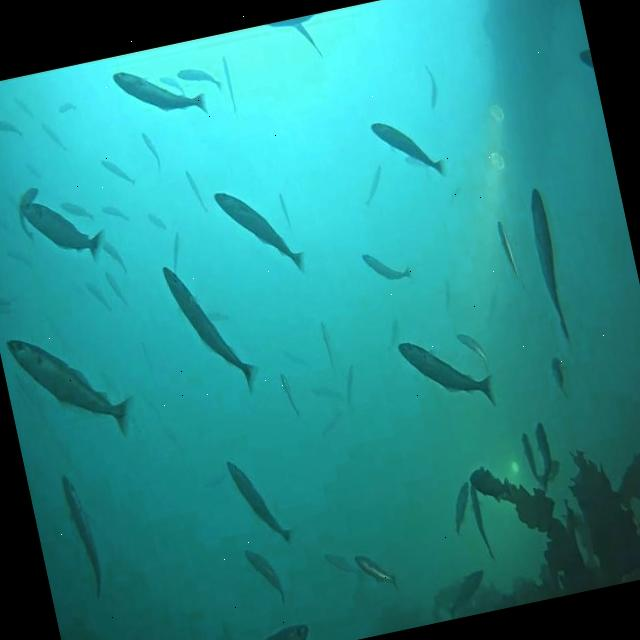fish: (4, 321, 136, 456), (160, 255, 258, 401), (212, 178, 303, 288), (399, 324, 494, 422), (525, 190, 573, 348), (109, 55, 206, 132), (226, 454, 292, 554), (21, 192, 102, 270), (370, 110, 444, 187), (64, 475, 109, 598), (242, 541, 286, 607), (352, 548, 398, 594), (467, 461, 514, 506), (528, 423, 558, 493), (362, 245, 410, 288), (12, 185, 48, 242), (467, 482, 492, 562), (440, 570, 490, 610), (446, 481, 478, 538), (495, 218, 521, 284), (177, 63, 222, 99), (241, 618, 313, 640), (357, 162, 388, 205), (292, 18, 322, 59), (457, 328, 487, 369), (98, 154, 134, 188), (324, 548, 359, 582), (340, 360, 362, 408), (279, 367, 299, 418), (221, 54, 238, 112), (163, 231, 186, 273), (185, 170, 208, 212), (550, 357, 570, 405), (85, 278, 112, 313), (520, 432, 538, 482), (104, 270, 128, 307), (100, 237, 124, 273), (142, 131, 163, 172), (420, 66, 440, 108), (320, 322, 336, 374), (98, 200, 130, 225), (60, 199, 91, 223), (438, 280, 455, 318), (384, 322, 404, 353), (312, 382, 341, 403), (8, 248, 34, 270), (44, 120, 64, 148), (317, 412, 343, 433), (280, 192, 294, 230), (159, 74, 183, 96), (202, 306, 228, 326), (145, 210, 167, 233), (282, 348, 306, 369), (0, 116, 21, 136), (578, 46, 594, 70), (15, 99, 32, 118), (56, 101, 76, 113), (0, 290, 11, 304), (0, 303, 11, 316)
